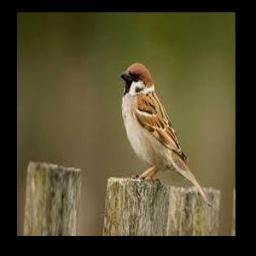Sparrow: (120, 62, 211, 207)
